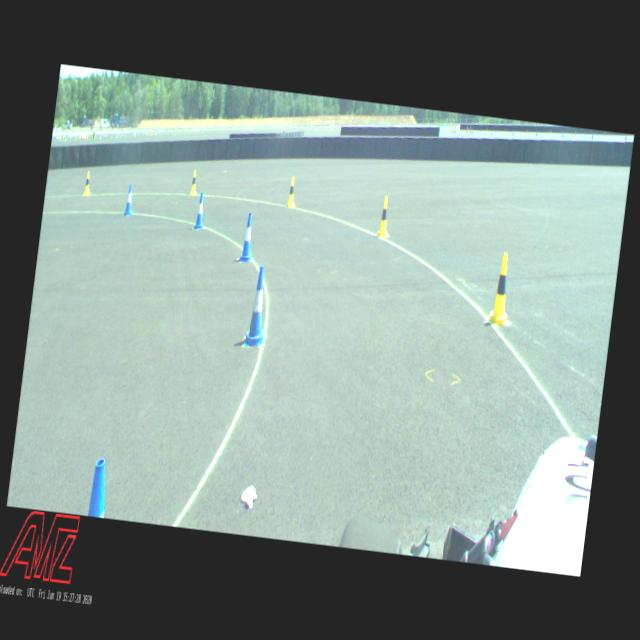blue_cone: (244, 265, 274, 347), (88, 457, 111, 518), (238, 212, 256, 262), (194, 191, 206, 229), (124, 183, 136, 216)
yellow_cone: (488, 252, 514, 324), (376, 195, 392, 237), (287, 176, 297, 207), (190, 169, 199, 195), (84, 170, 92, 196)
